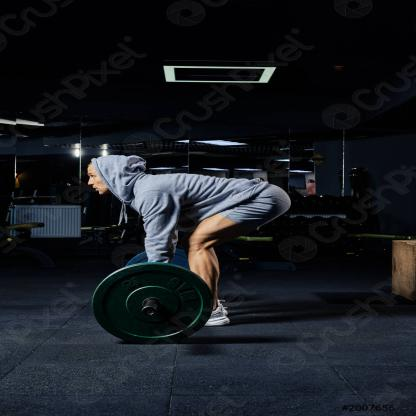Barbell: (86, 260, 222, 347)
